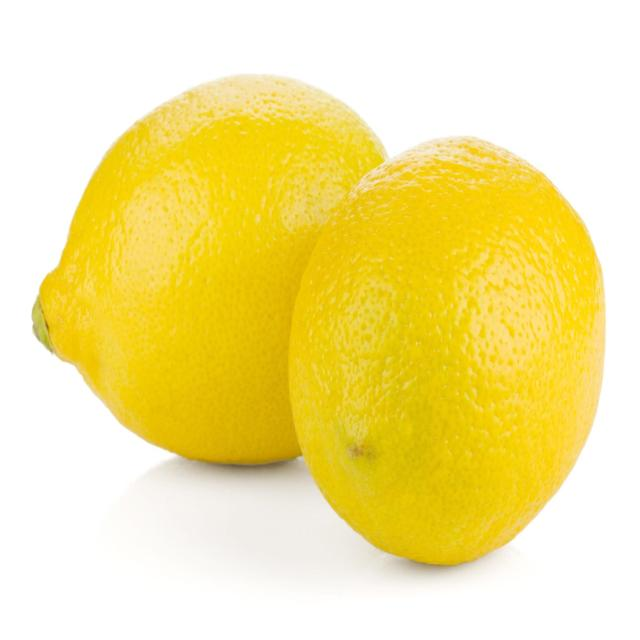lemon: (27, 66, 413, 472), (284, 131, 612, 570)
